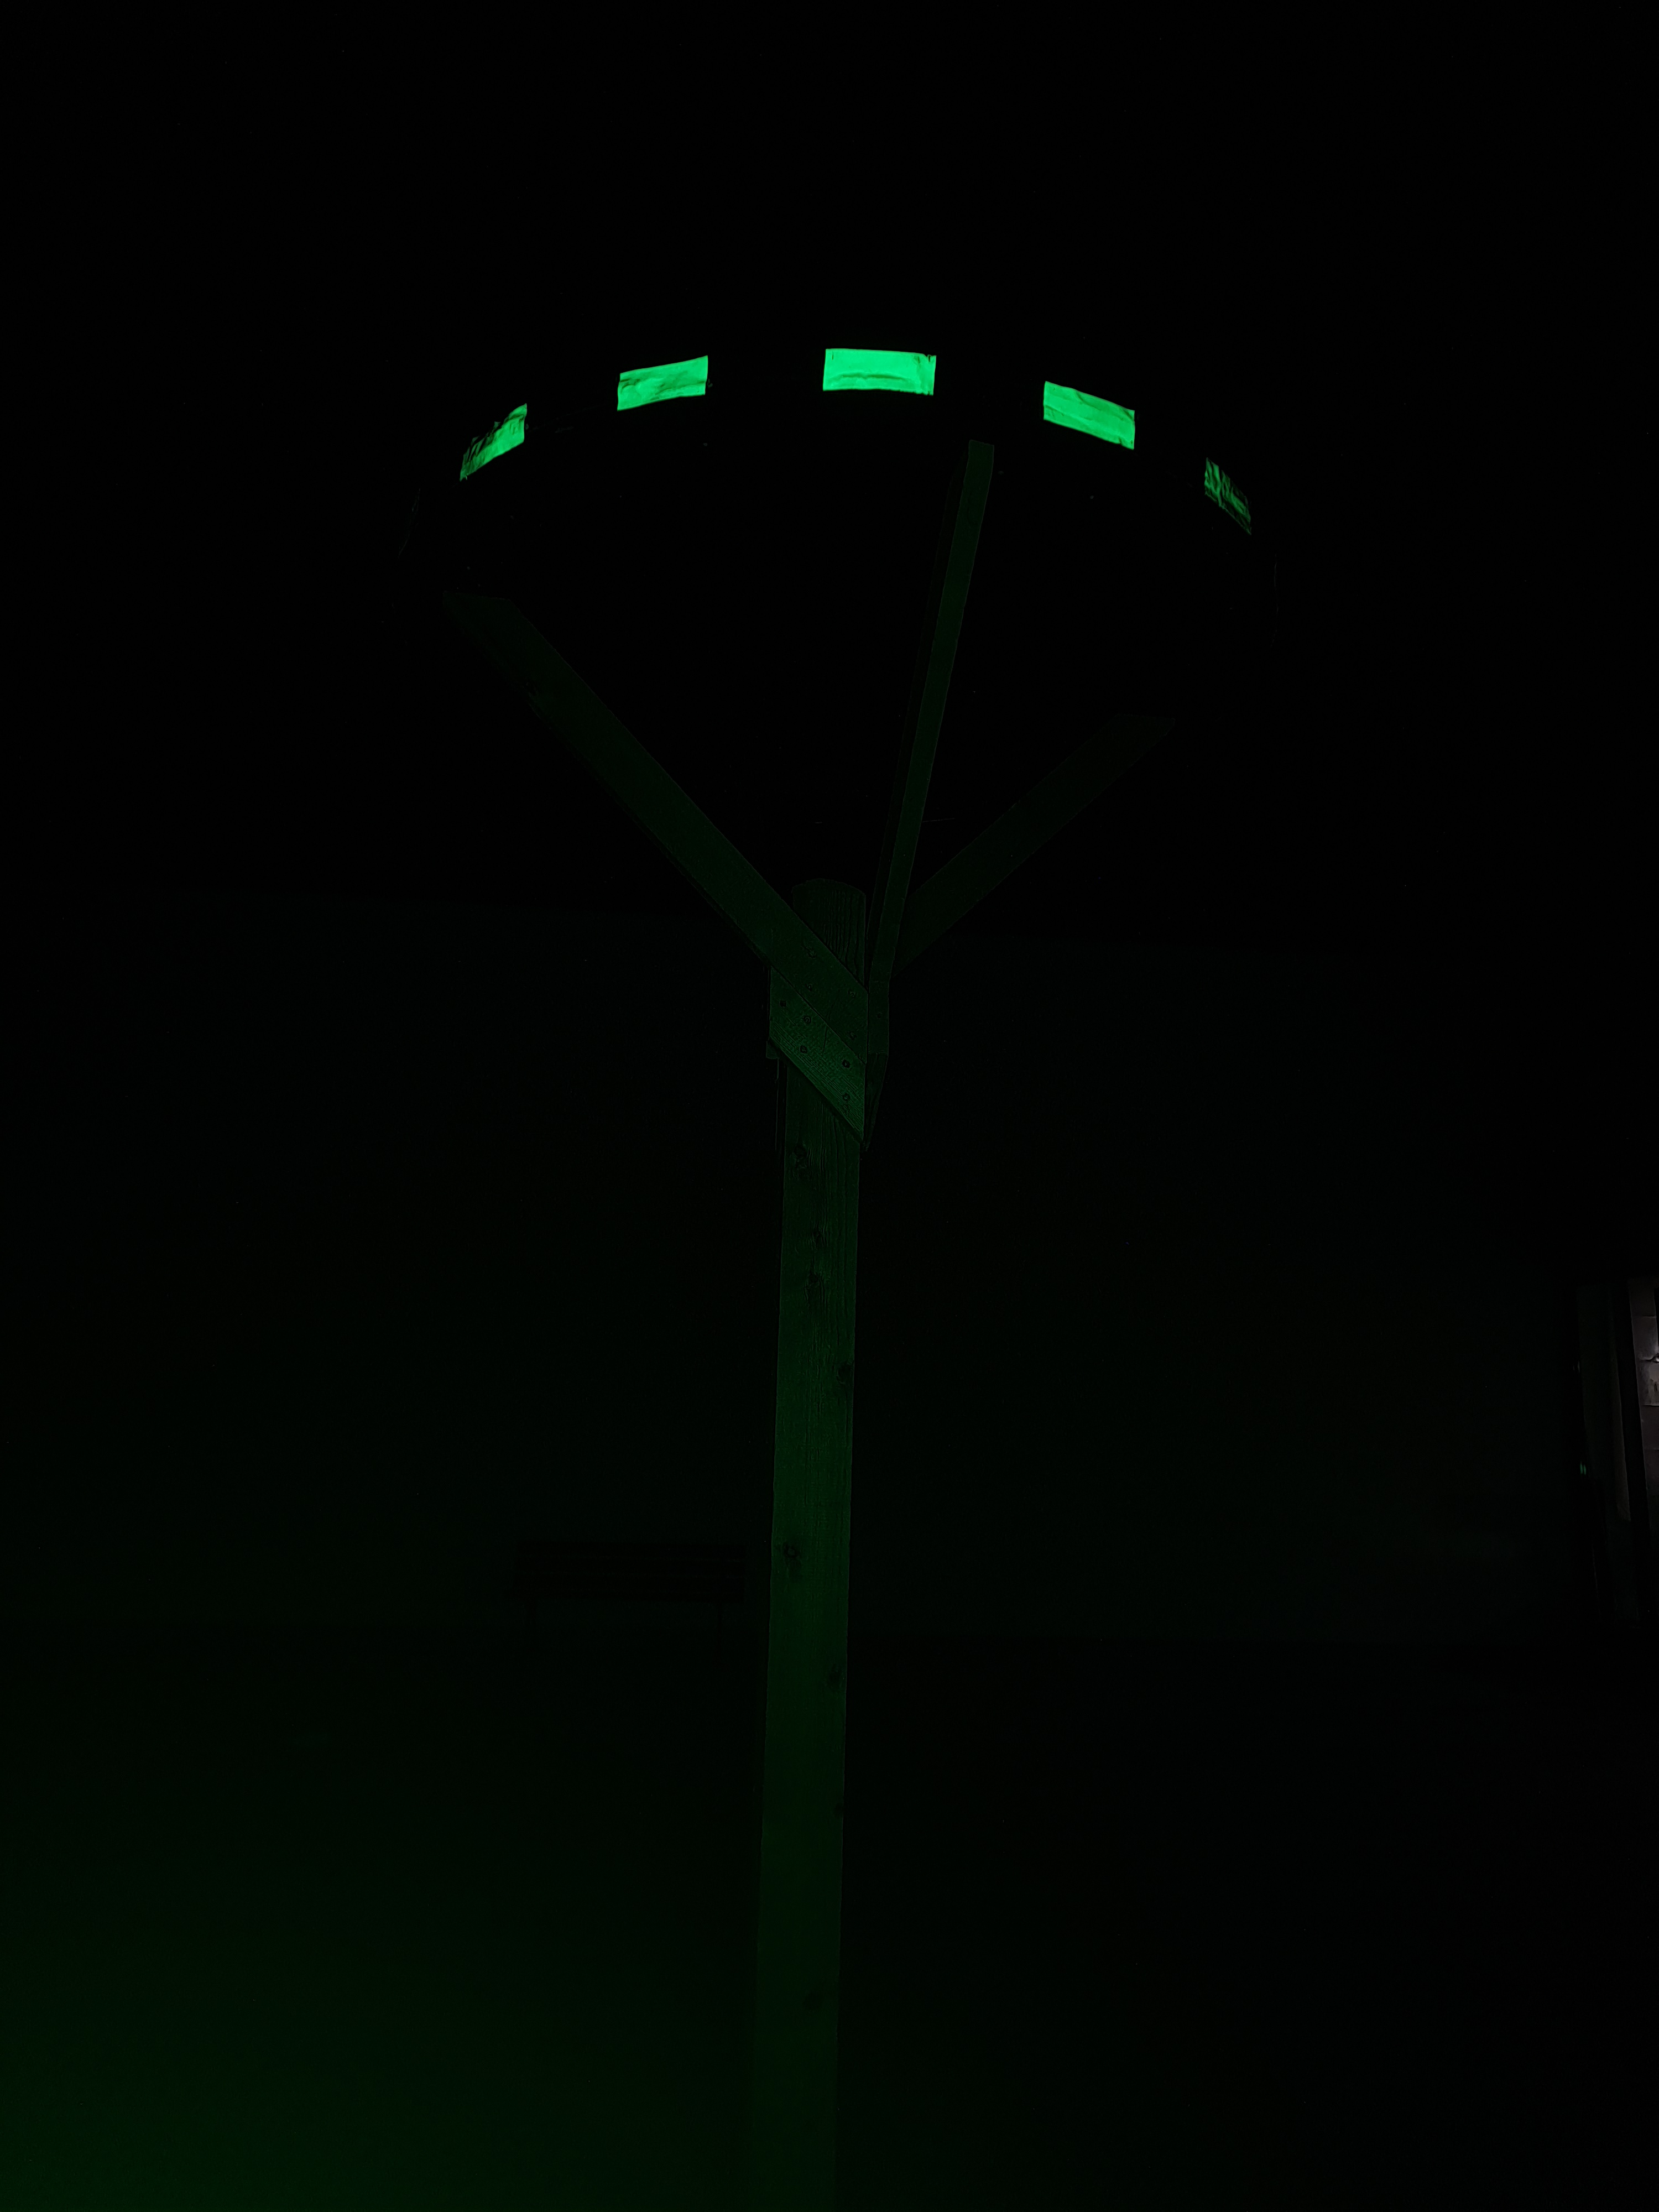hoop: (448, 333, 1256, 535)
